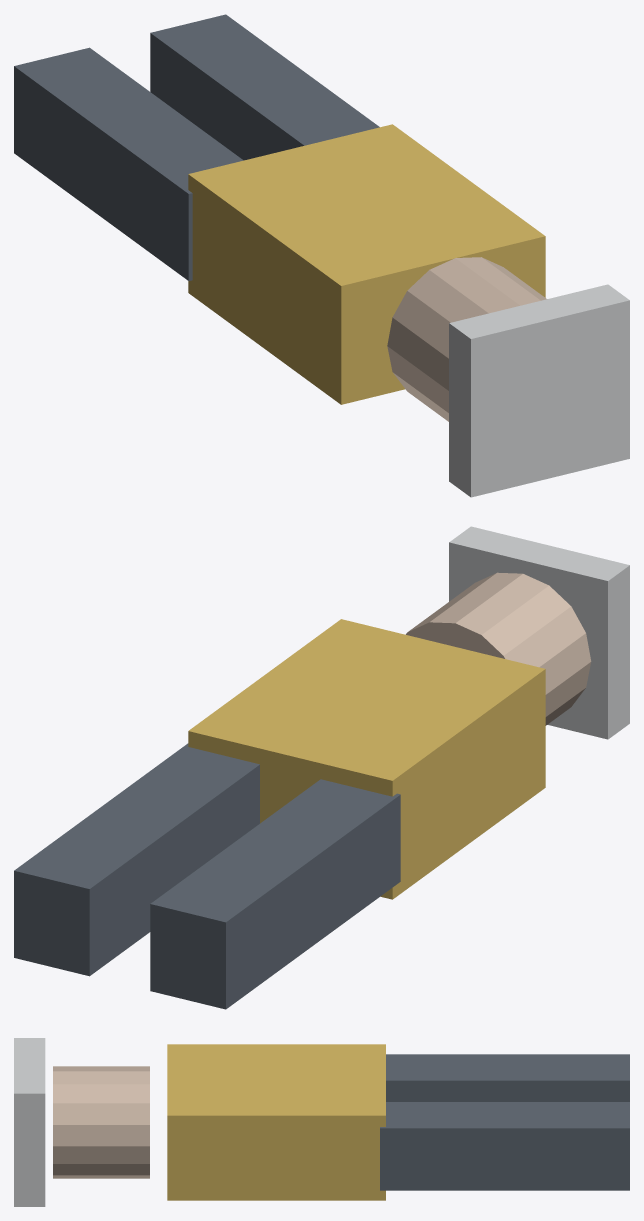
File: worker.glb
3 views of the same model, one above another, from view 1: azimuth 30°, elevation 25°; view 2: azimuth 150°, elevation 25°; view 3: azimuth 270°, elevation 25° (orthographic). The views are drawn at different scales.
Visible parts, largest first — view 1: world; view 2: world; view 3: world.
Part boxes in pixels (<box>): world: <box>14,14,629,497</box>; world: <box>14,526,629,1009</box>; world: <box>14,1038,629,1206</box>.
Bounding box in the file's own units: 0.56 × 0.4 × 1.97.
